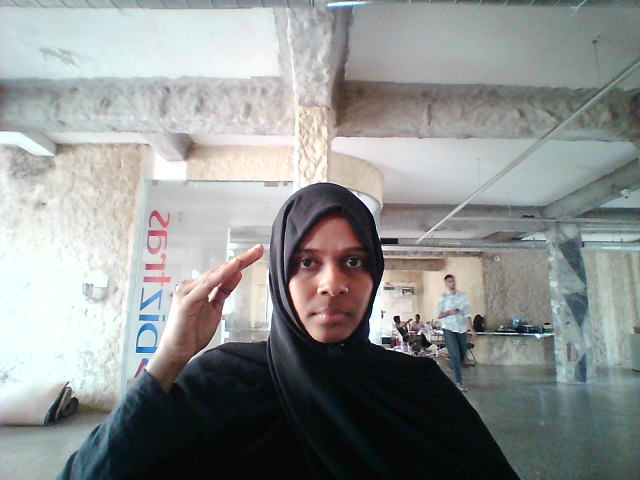HELLO: (161, 225, 272, 416)
